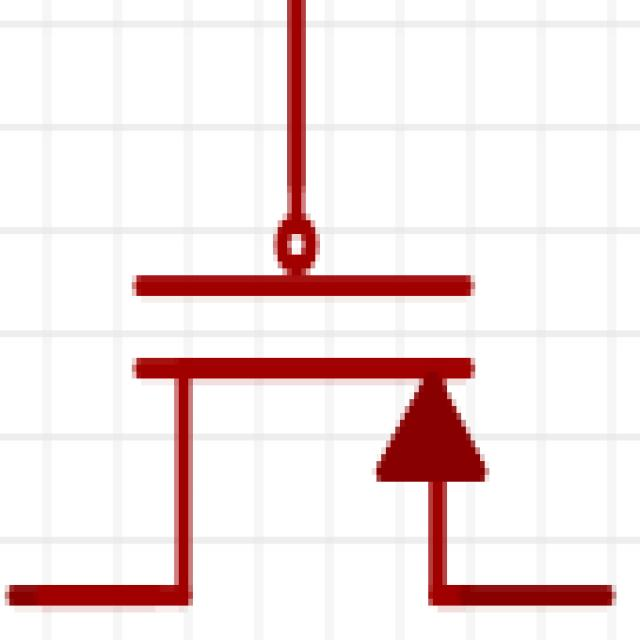pmos: (19, 55, 640, 640)
